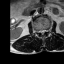CCS_normal: (41, 27, 43, 36)
LFS_normal: (45, 27, 48, 34)
LLS_normal: (43, 27, 45, 35)
RFS_normal: (37, 28, 39, 34)
RLS_normal: (39, 28, 41, 34)
